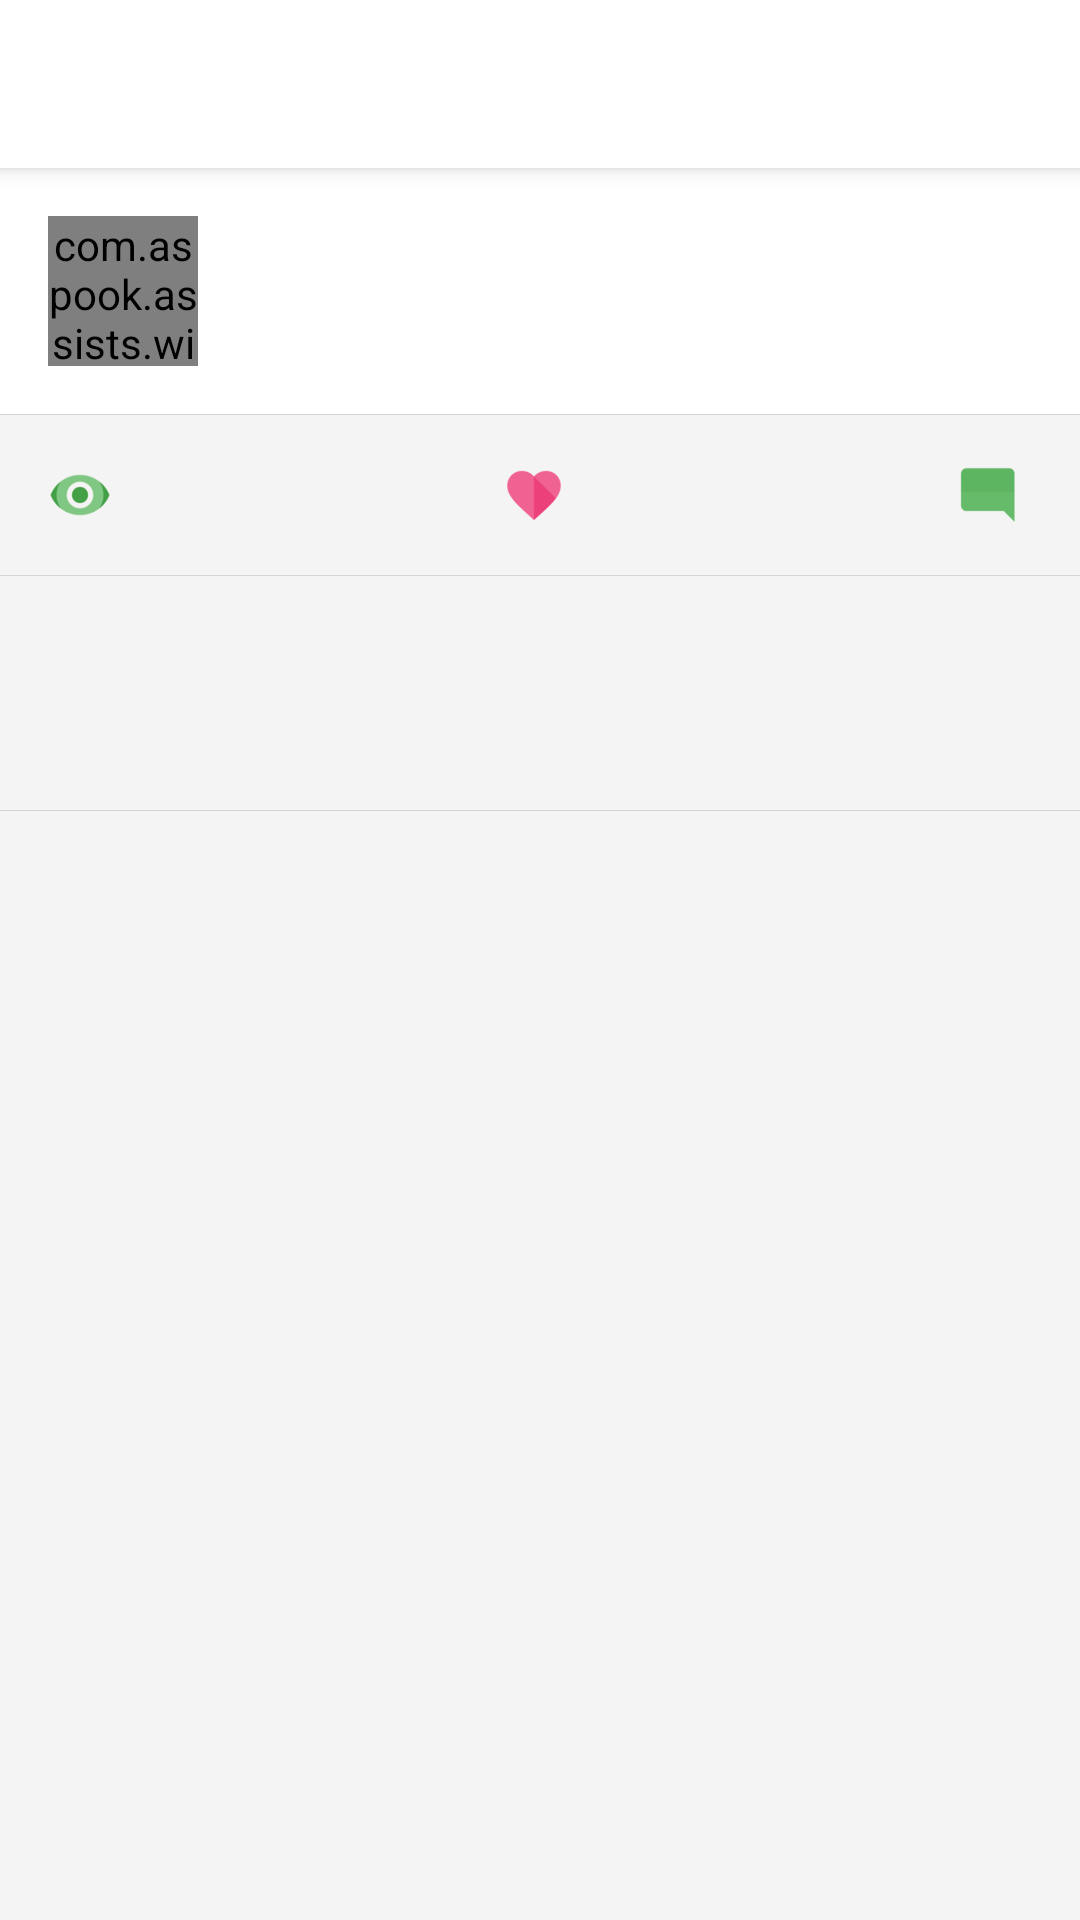

Screen size 1080px×1920px. Icon name, then its center in pixels as (x=x, y=y):
comment: (x=988, y=495)
like: (x=534, y=495)
